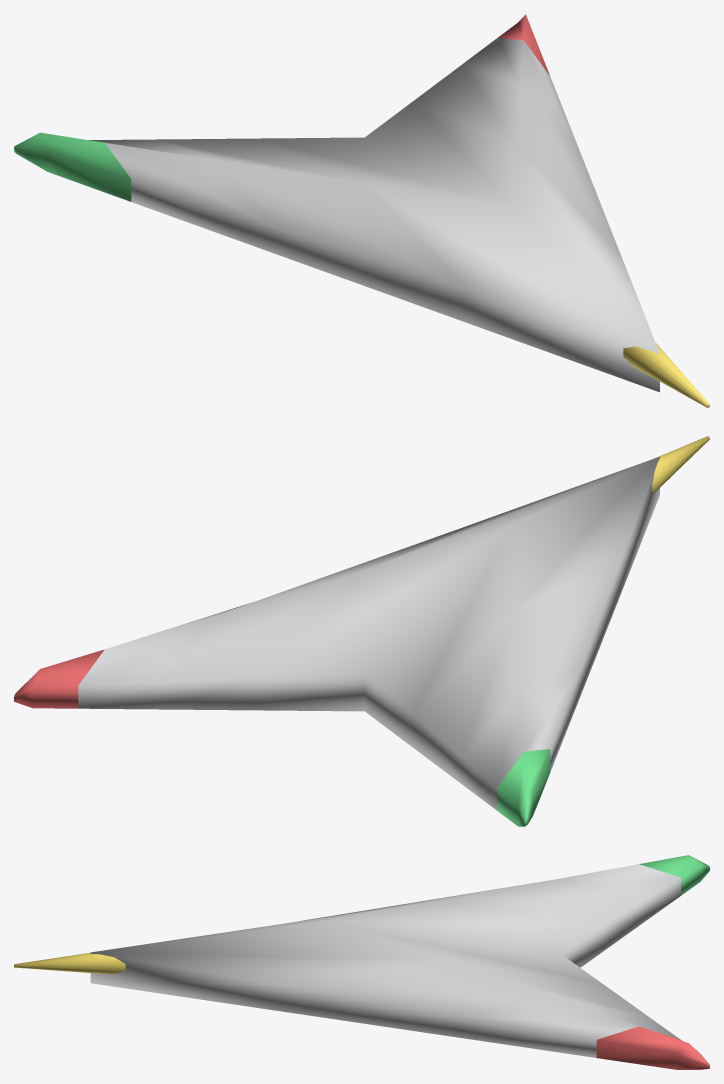
Rendered from ff-uav.glb.
3 views of the same model, one above another, from view 1: azimuth 30°, elevation 25°; view 2: azimuth 150°, elevation 25°; view 3: azimuth 270°, elevation 25° (orthographic). The views are drawn at different scales.
Parts seen in each view (by area): view 1: part2, part0, part3, part1; view 2: part2, part0, part1, part3; view 3: part2, part1, part3, part0.
Boxes of the visible parts, x1,y1,x2,y2 form: part2: (88,38,659,392); part0: (14,132,131,201); part3: (623,343,709,407); part1: (498,14,549,75); part2: (78,456,659,810); part0: (497,749,550,826); part1: (14,649,104,708); part3: (652,436,709,492); part2: (90,864,680,1057); part1: (596,1026,709,1069); part3: (14,952,125,974); part0: (639,855,709,895).
Bounding box in the file's own units: 0.726 × 0.1056 × 1.08.
